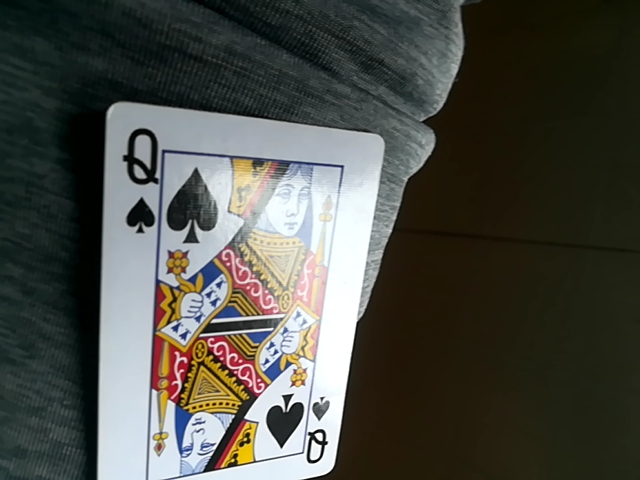ht q: (89, 95, 385, 475)
